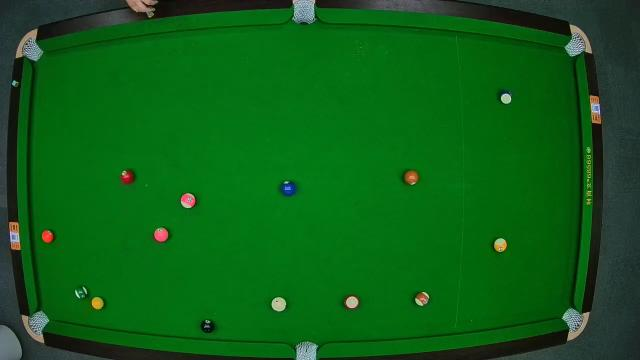bag1: (21, 40, 41, 62)
bag2: (292, 0, 316, 26)
bag3: (566, 32, 586, 56)
bag4: (27, 308, 47, 334)
bag5: (292, 338, 320, 360)
bag6: (563, 308, 585, 332)
ball0: (272, 296, 286, 310)
ball1: (92, 296, 105, 310)
ball10: (498, 90, 514, 104)
ball11: (344, 294, 360, 310)
ball12: (180, 192, 196, 208)
ball14: (74, 284, 88, 300)
ball15: (414, 292, 430, 307)
ball2: (280, 180, 296, 197)
ball3: (120, 169, 134, 185)
ball4: (154, 226, 170, 244)
ball5: (41, 229, 54, 243)
ball7: (402, 169, 418, 185)
ball8: (200, 318, 216, 334)
ball9: (492, 237, 508, 253)
